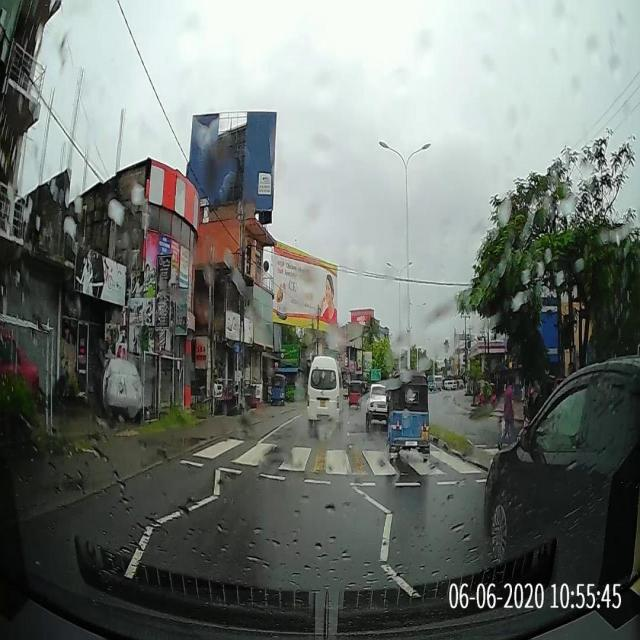Crosswalk: (189, 437, 483, 477)
